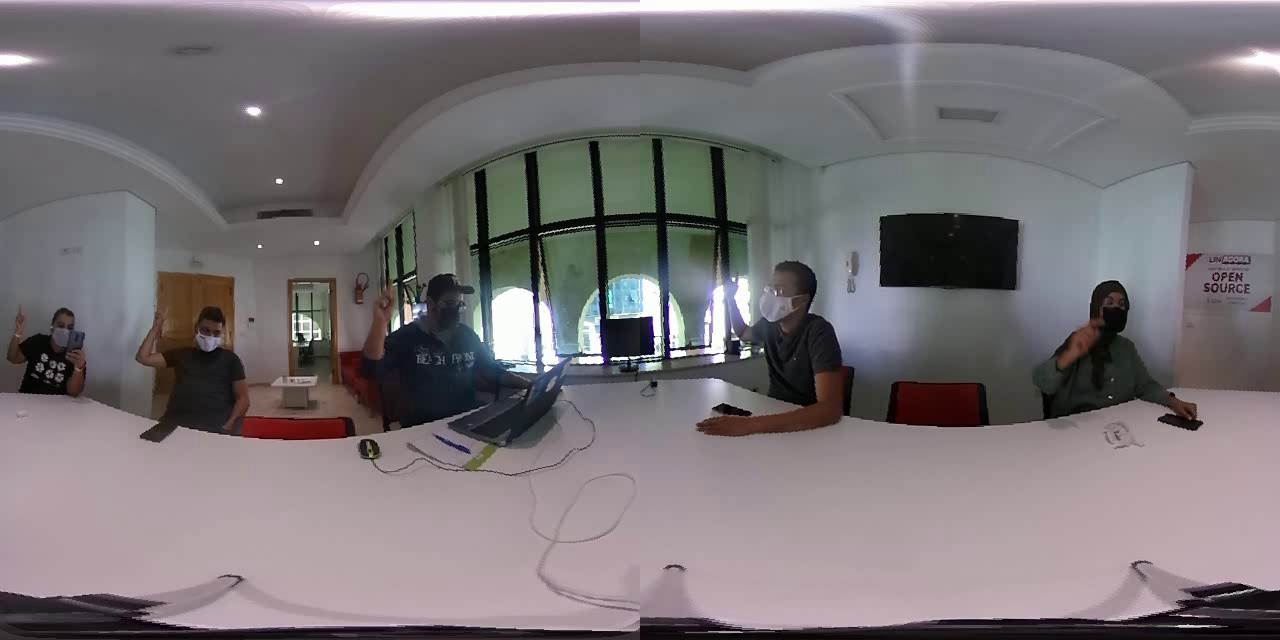person: (693, 244, 847, 446), (335, 246, 502, 432), (1029, 259, 1161, 433), (128, 284, 260, 451), (1, 285, 99, 408)
speaking: (352, 263, 408, 385), (705, 259, 755, 366), (129, 299, 168, 383), (2, 299, 29, 373)
